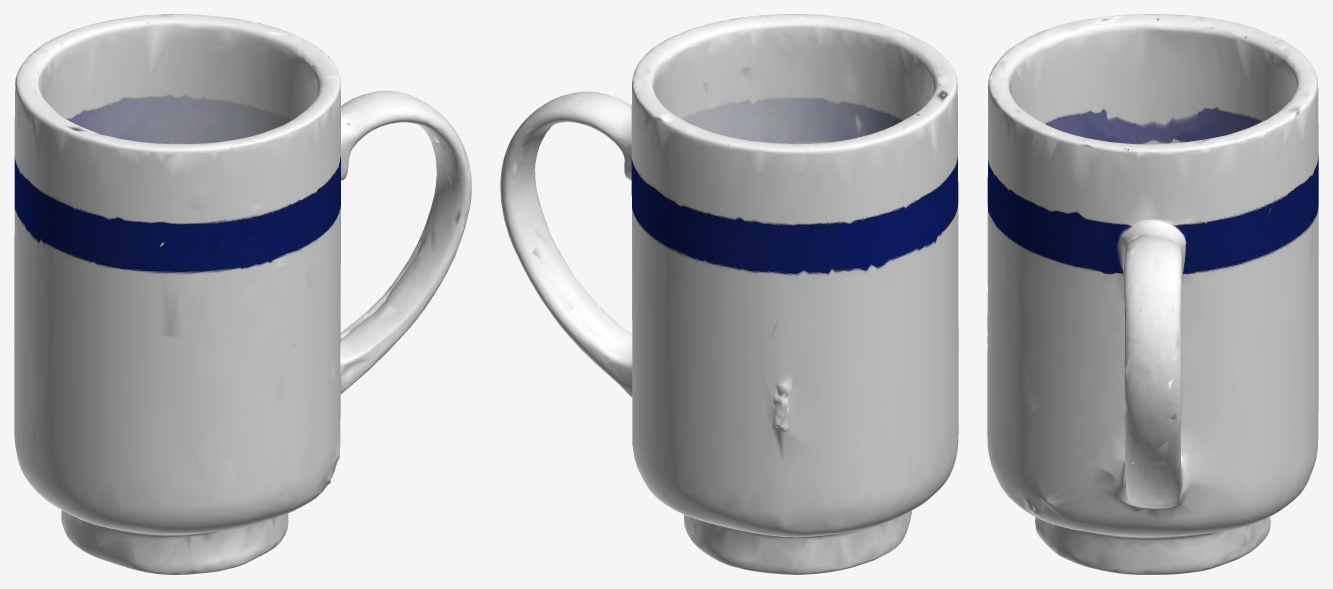
Rendered from mug.glb.
3 renders of one model, left to right at view 1: azimuth 30°, elevation 25°; view 2: azimuth 150°, elevation 25°; view 3: azimuth 270°, elevation 25°, orthographic.
Size of the model in its own units: 1.62 by 1.61 by 1.07.
1 material, 1 textured.
